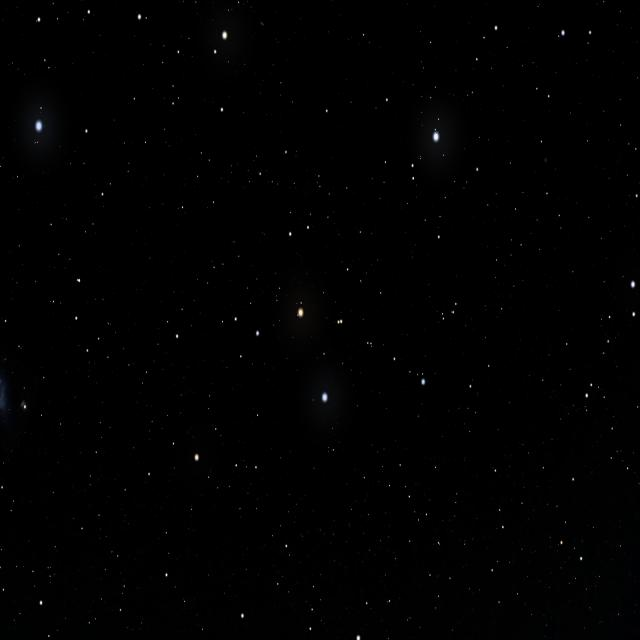Grus: (230, 222, 431, 410)
